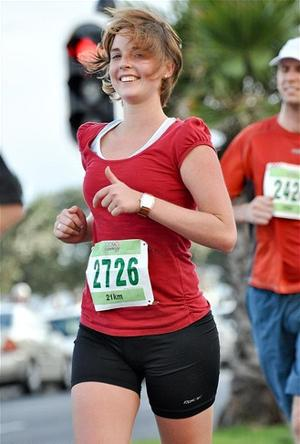person: (54, 10, 238, 444)
